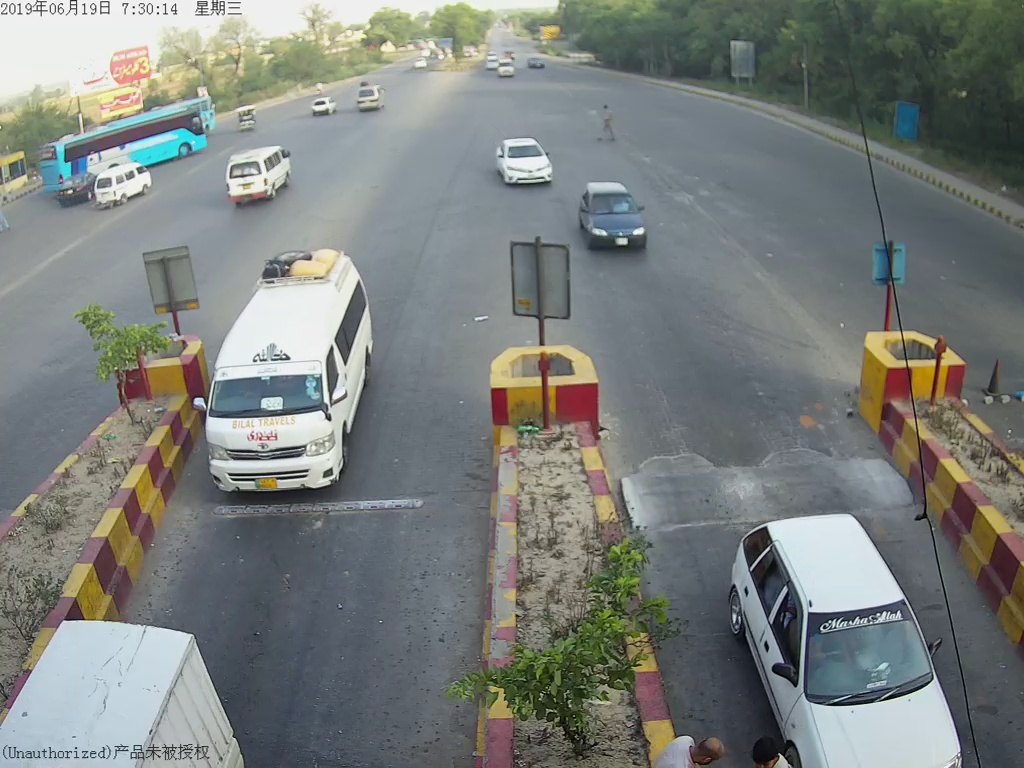Cat-1: (577, 179, 652, 253), (491, 134, 557, 193)
Cat-2: (196, 264, 391, 509)
